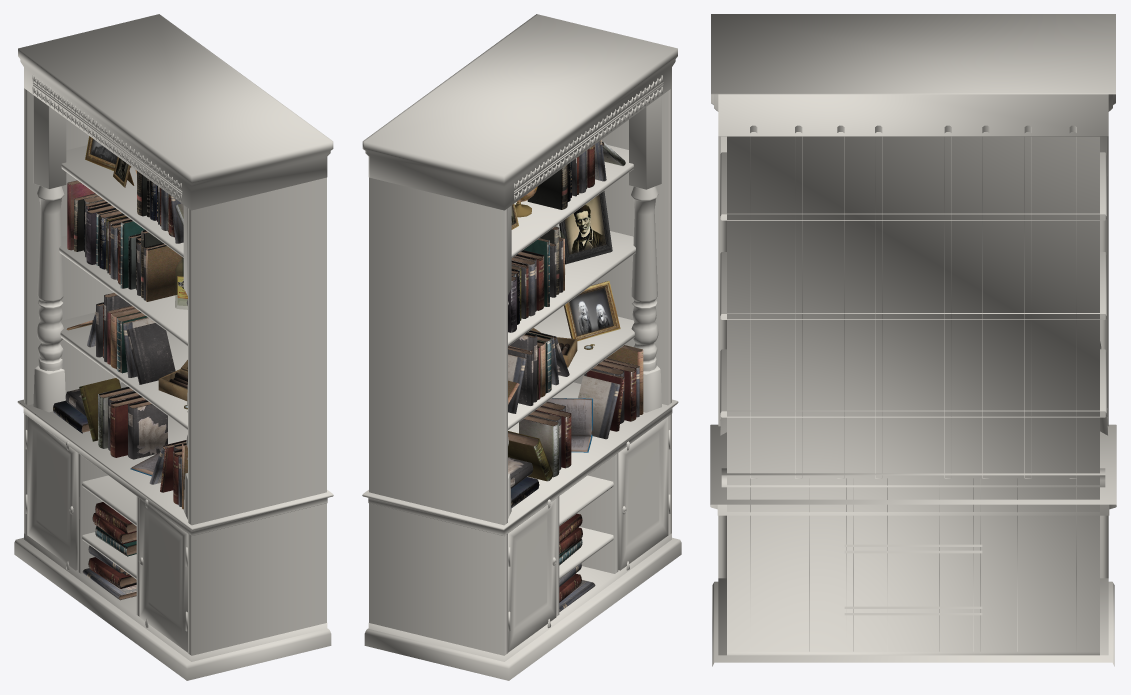
Rendered from bookshelf.glb.
The picture shows the model from 3 angles, left to right: view 1: azimuth 30°, elevation 25°; view 2: azimuth 150°, elevation 25°; view 3: azimuth 270°, elevation 25°; orthographic projection. The views are drawn at different scales.
Visible parts, largest first — view 1: Object_12, Object_26, Object_18, Object_16, Object_24; view 2: Object_12, Object_26, Object_6, Object_14, Object_20; view 3: Object_12.
Boxes of the visible parts, x1,y1,x2,y2 form: Object_12: (14, 14, 333, 680); Object_26: (53, 171, 187, 600); Object_18: (158, 360, 187, 400); Object_16: (85, 136, 130, 170); Object_24: (175, 257, 187, 309); Object_12: (362, 14, 681, 680); Object_26: (508, 139, 643, 611); Object_6: (559, 191, 612, 264); Object_14: (564, 281, 620, 341); Object_20: (547, 398, 592, 452); Object_12: (710, 14, 1116, 666).
Size of the model in its own units: 0.188 by 0.6226 by 0.3906.
11 materials, 10 textured.
